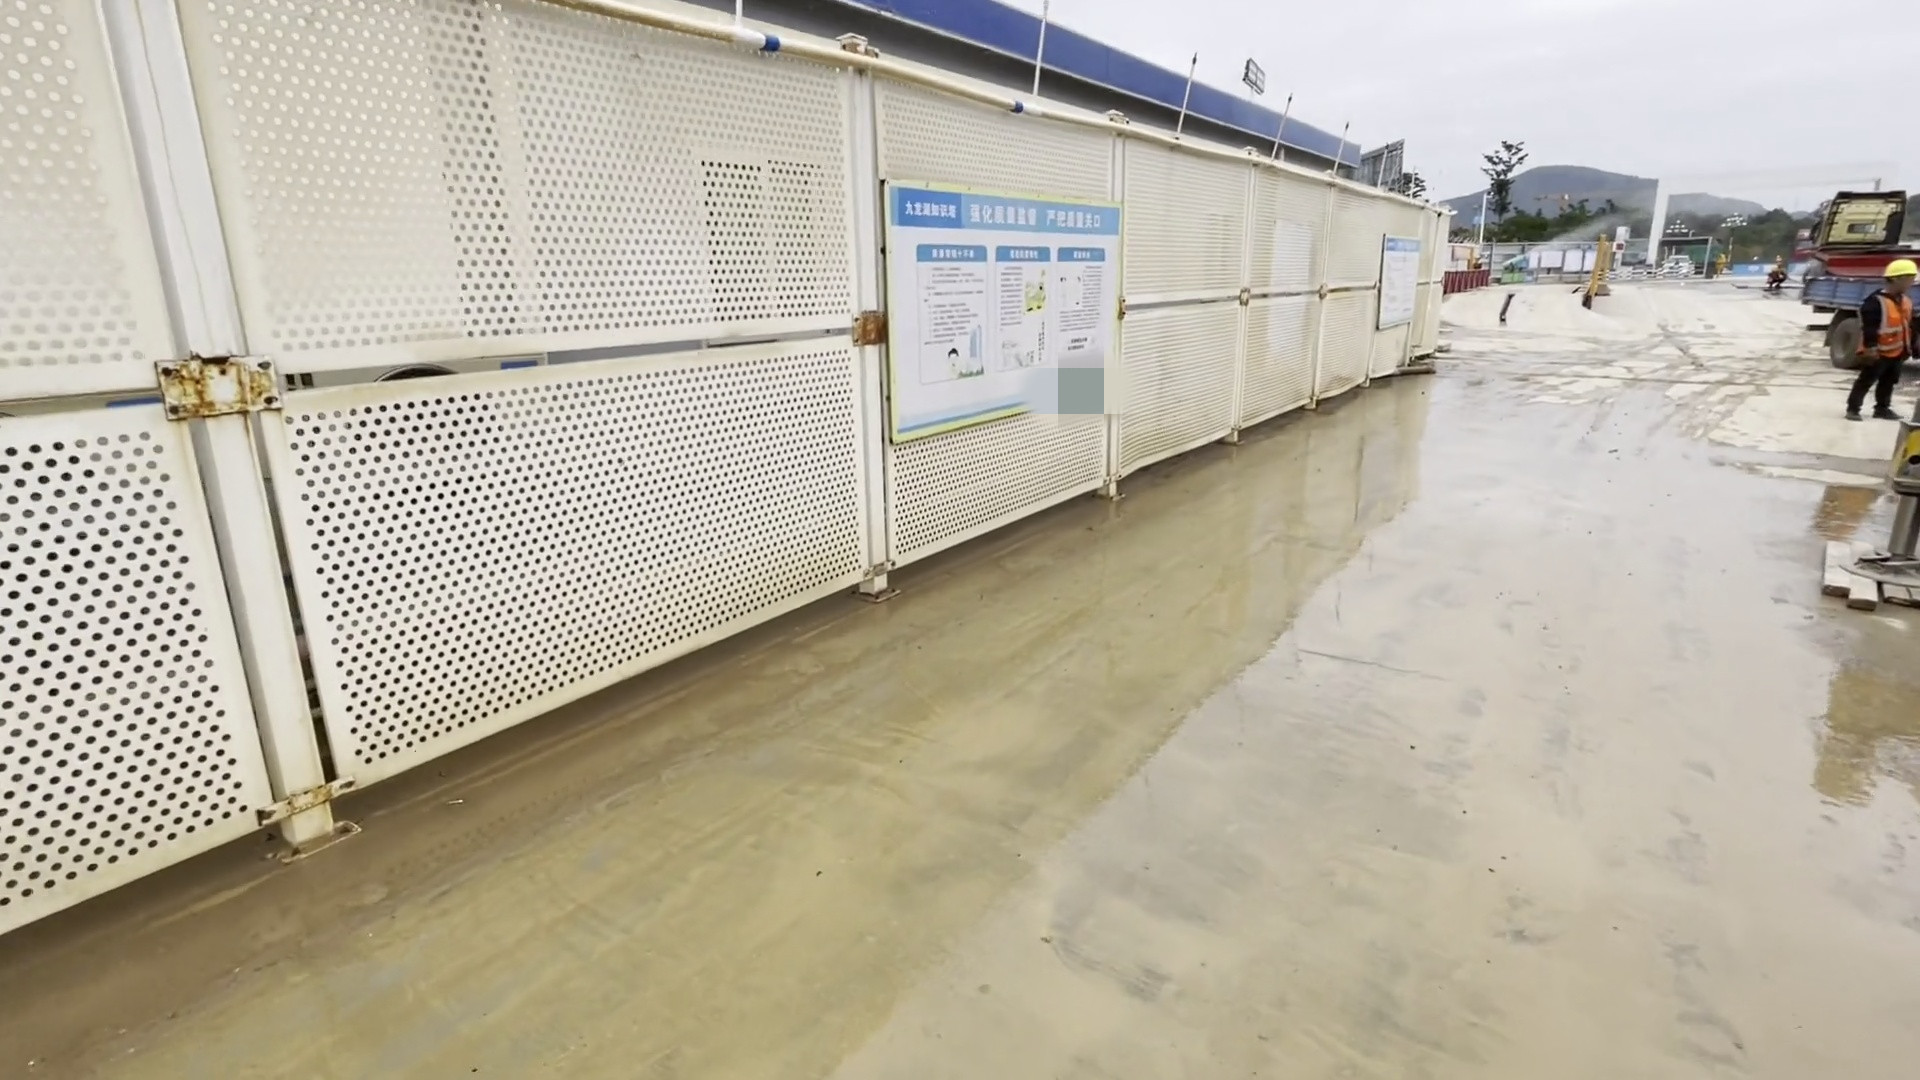slogan: (878, 171, 1143, 458)
